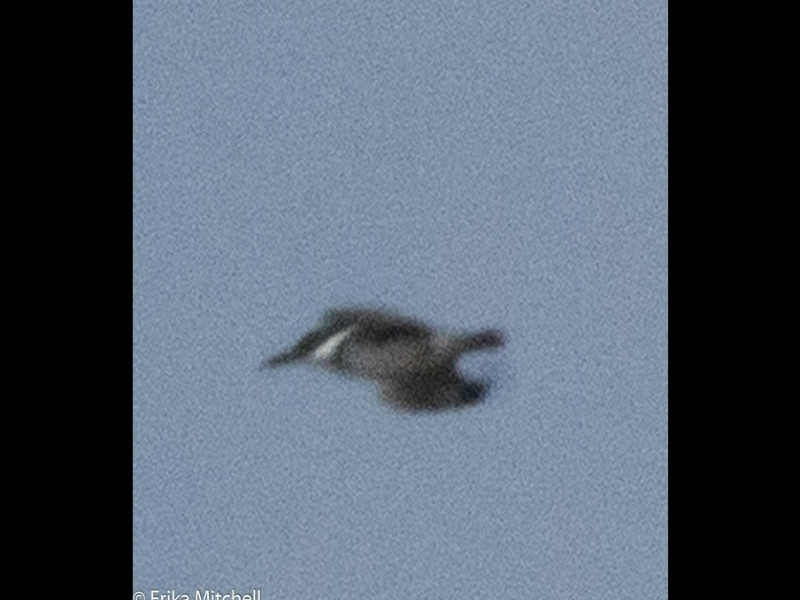kingfisher: (253, 299, 508, 414)
